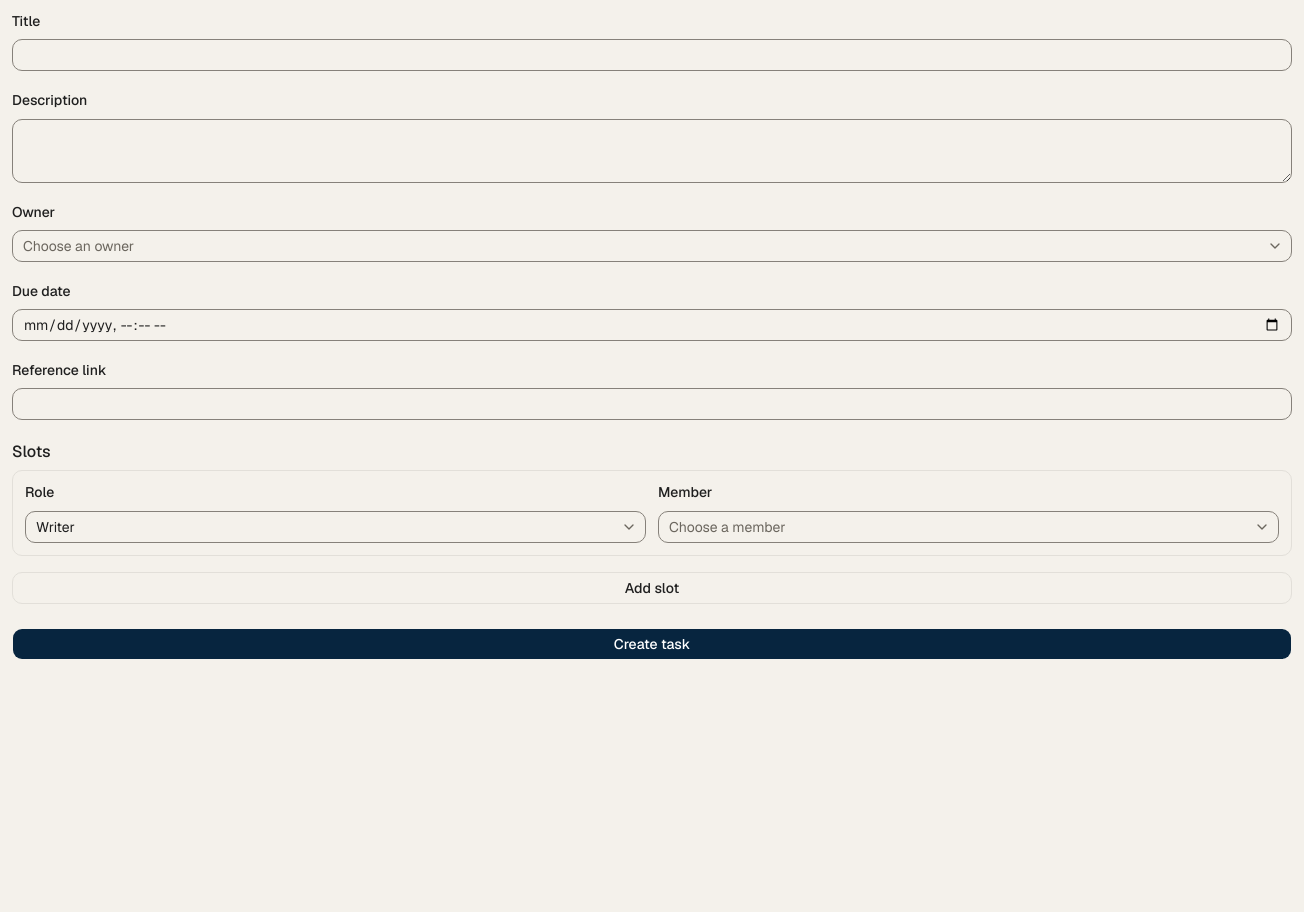
TaskForm › clears the owner error a submit left once an owner is chosen
Click the button "Create task".
click(652, 644)  # box left=12, top=628, right=1292, bottom=660
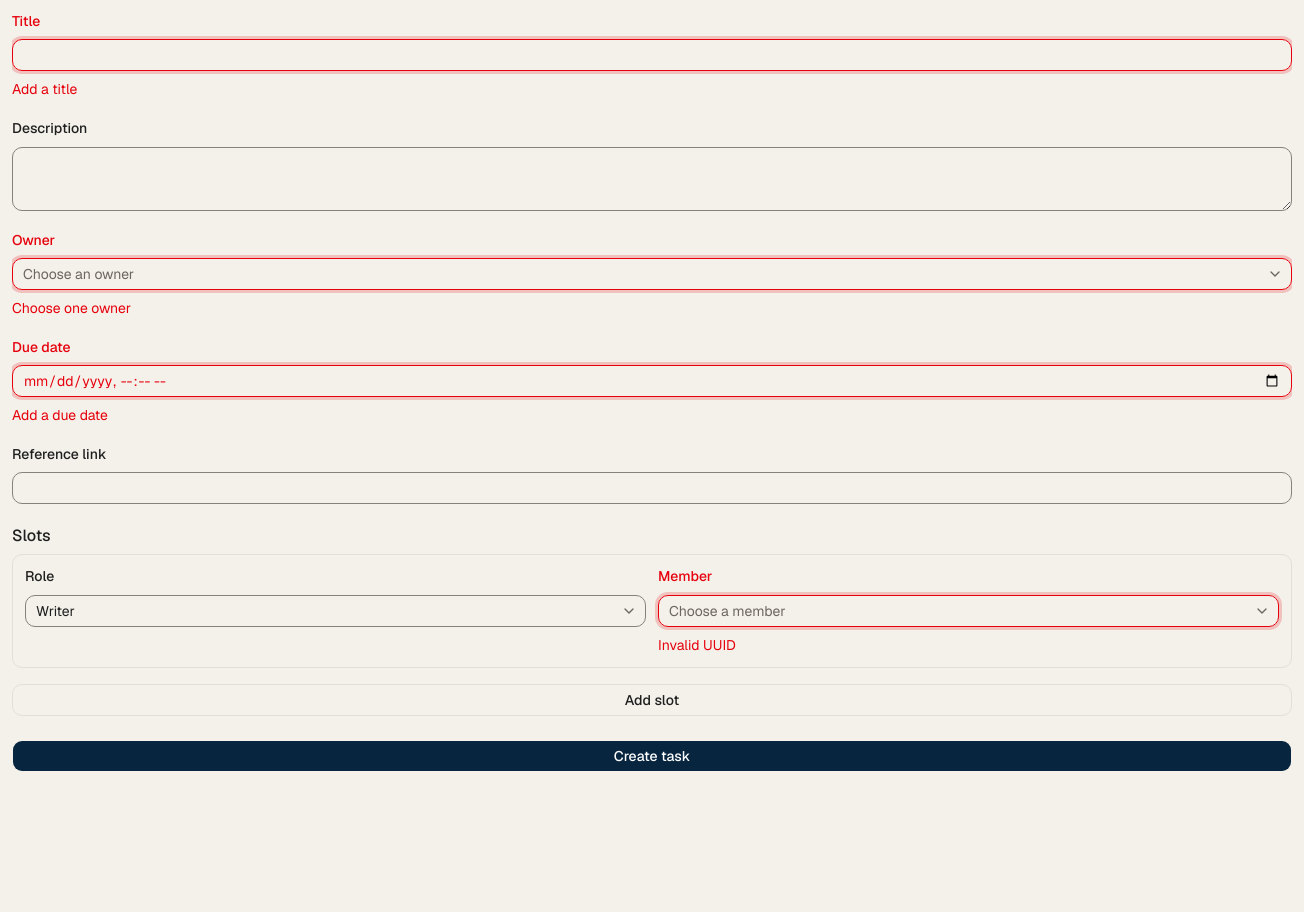
Result: the text "Choose one owner" is shown at left=12, top=299, right=131, bottom=317
Click the dropdown labelled "owner".
click(79, 274)  # box left=12, top=258, right=1292, bottom=290
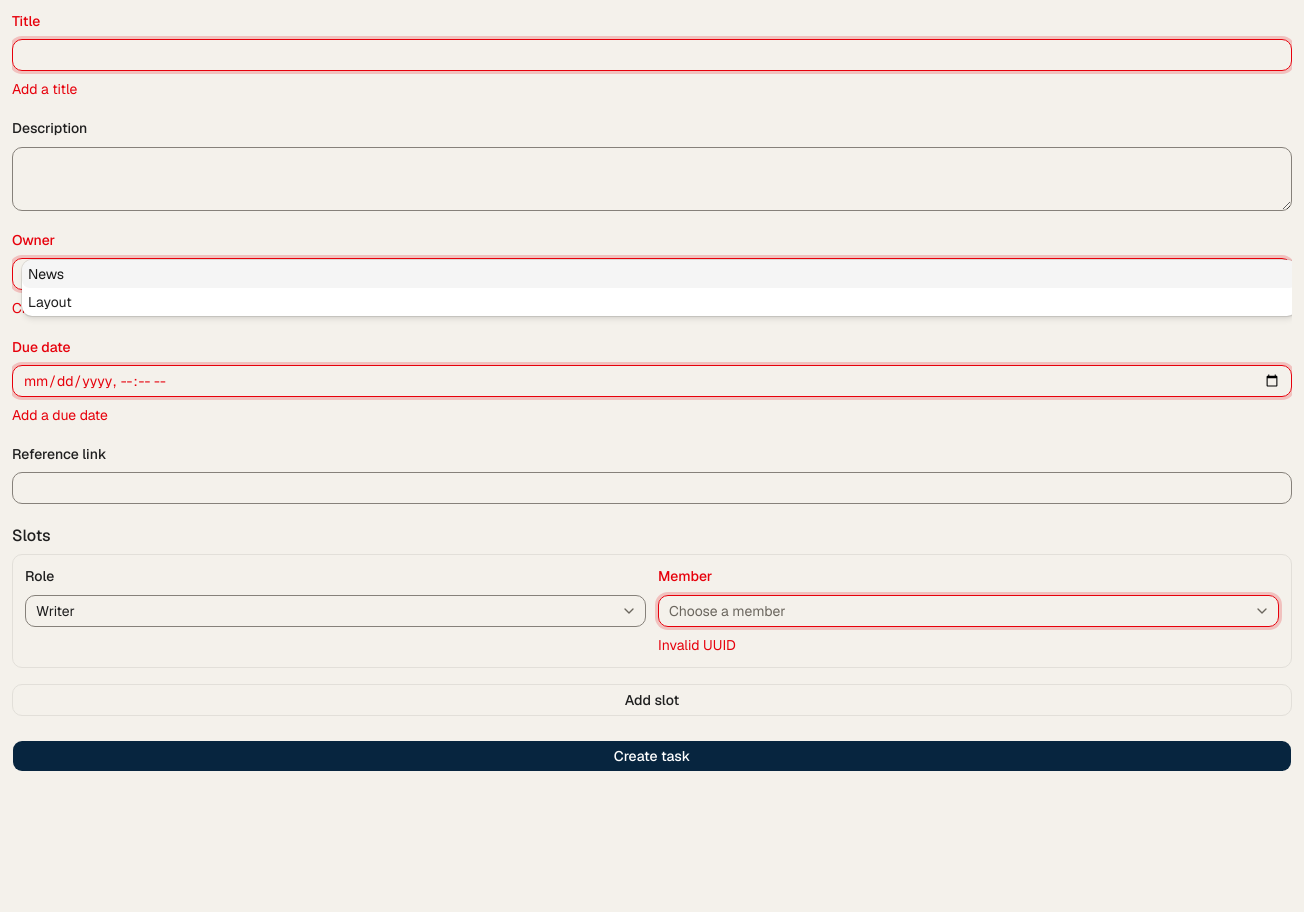
Click the option "Layout".
click(50, 302)  # box left=28, top=293, right=72, bottom=311
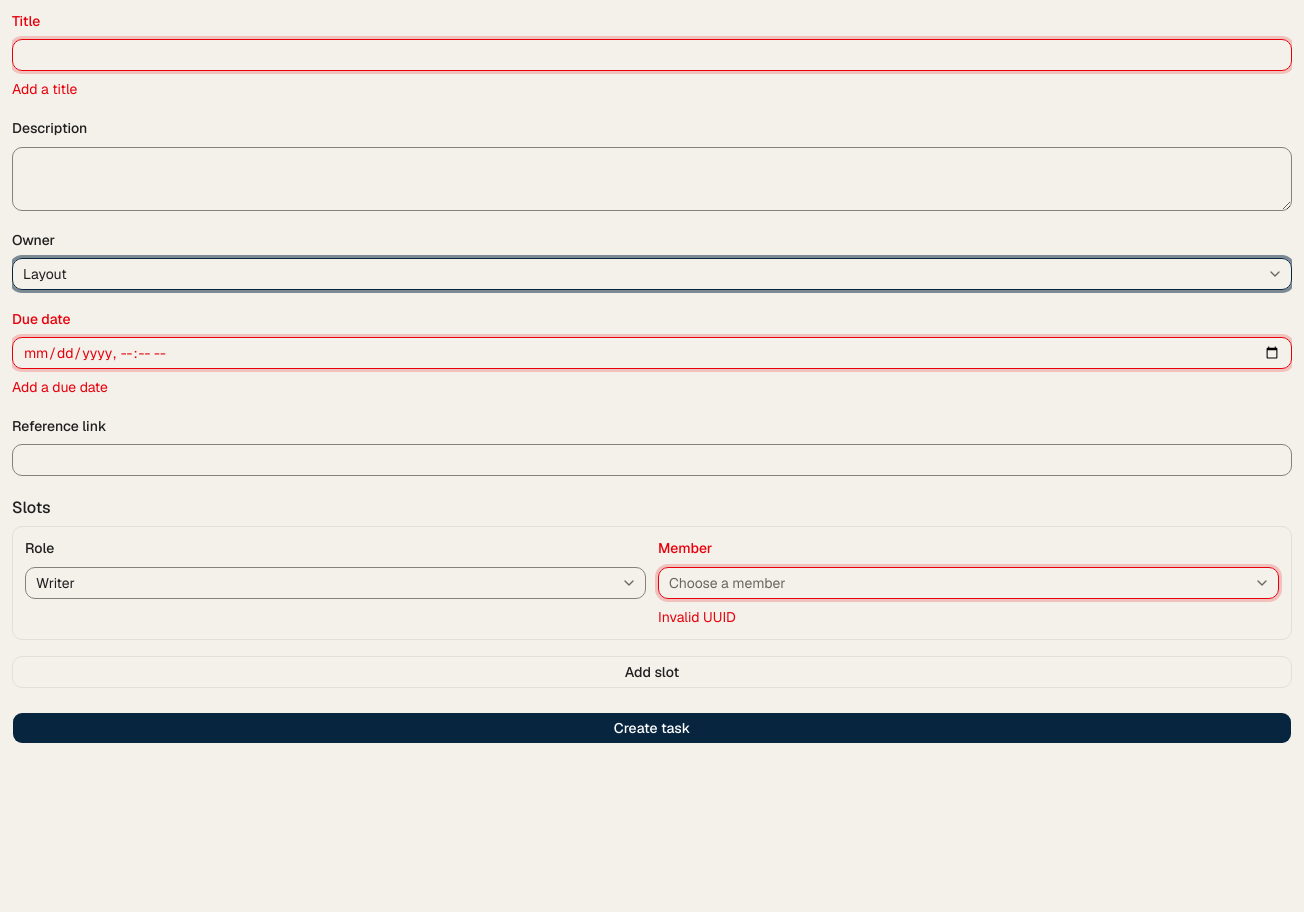
Result: the text "Choose one owner" is gone
